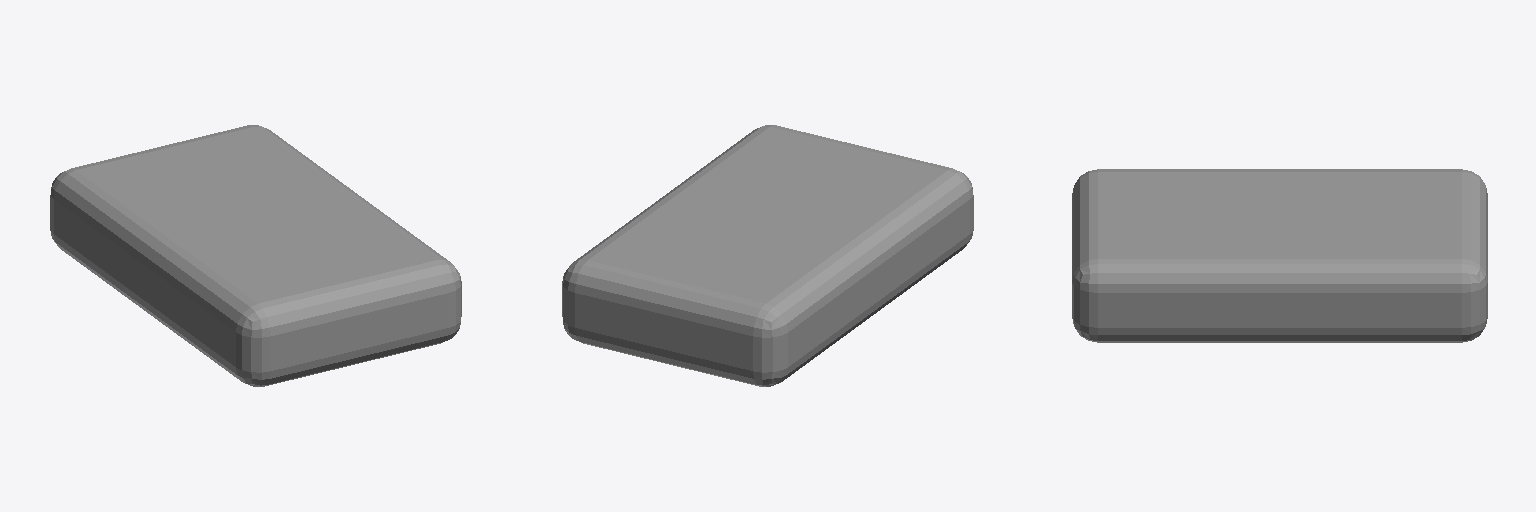
File: textured_tile.obj
3 renders of one model, left to right at view 1: azimuth 30°, elevation 25°; view 2: azimuth 150°, elevation 25°; view 3: azimuth 270°, elevation 25°, orthographic.
Parts seen in each view (by area): view 1: Roundcube; view 2: Roundcube; view 3: Roundcube.
Boxes of the visible parts, x1=… form: Roundcube: x1=50, y1=125, x2=461, y2=386; Roundcube: x1=562, y1=125, x2=973, y2=386; Roundcube: x1=1072, y1=169, x2=1487, y2=342.
Bounding box in the file's own units: 1 × 0.35 × 1.62.